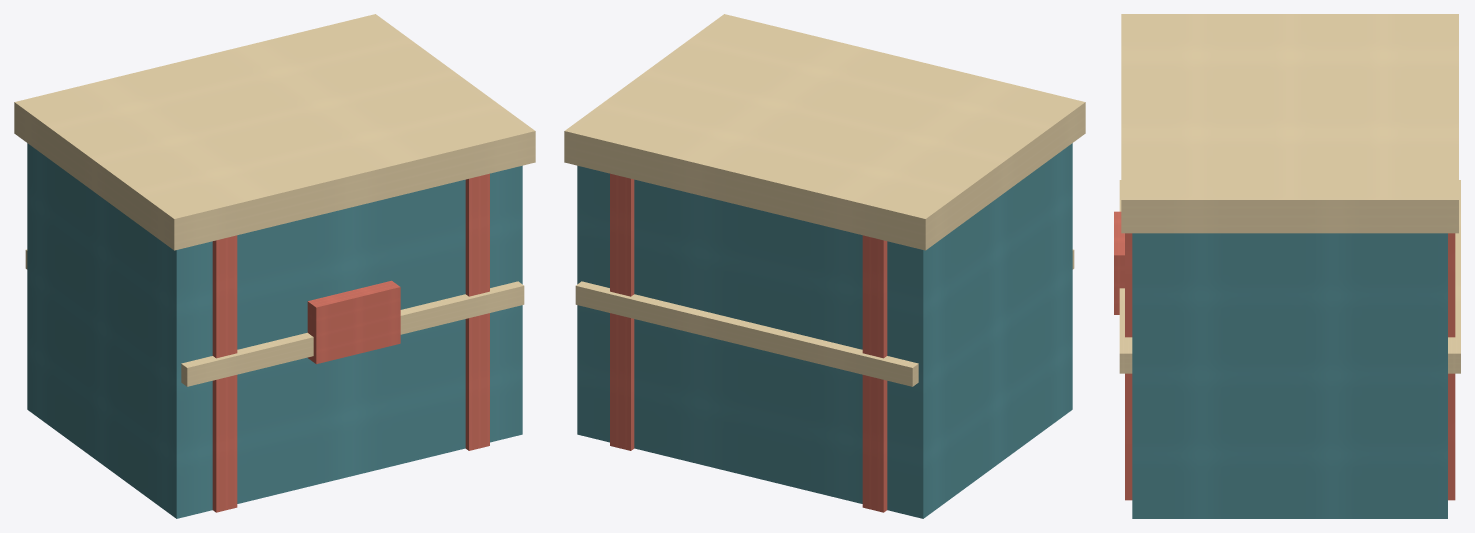
Rendered from atlas100-atompunk-util02.glb.
3 renders of one model, left to right at view 1: azimuth 30°, elevation 25°; view 2: azimuth 150°, elevation 25°; view 3: azimuth 270°, elevation 25°, orthographic. The views are drawn at different scales.
Visible parts, largest first — view 1: atlas100-atompunk-util02:part-000, atlas100-atompunk-util02:part-005, atlas100-atompunk-util02:part-001, atlas100-atompunk-util02:part-004, atlas100-atompunk-util02:part-002, atlas100-atompunk-util02:part-006; view 2: atlas100-atompunk-util02:part-000, atlas100-atompunk-util02:part-005, atlas100-atompunk-util02:part-003, atlas100-atompunk-util02:part-001, atlas100-atompunk-util02:part-002; view 3: atlas100-atompunk-util02:part-000, atlas100-atompunk-util02:part-005, atlas100-atompunk-util02:part-002, atlas100-atompunk-util02:part-003, atlas100-atompunk-util02:part-006, atlas100-atompunk-util02:part-004.
Boxes of the visible parts, <box> form: atlas100-atompunk-util02:part-000: <box>27,143,522,518</box>; atlas100-atompunk-util02:part-005: <box>14,14,535,250</box>; atlas100-atompunk-util02:part-001: <box>212,235,237,512</box>; atlas100-atompunk-util02:part-004: <box>181,281,524,386</box>; atlas100-atompunk-util02:part-002: <box>465,173,489,450</box>; atlas100-atompunk-util02:part-006: <box>307,280,400,364</box>; atlas100-atompunk-util02:part-000: <box>577,143,1072,518</box>; atlas100-atompunk-util02:part-005: <box>564,14,1085,250</box>; atlas100-atompunk-util02:part-003: <box>575,281,918,386</box>; atlas100-atompunk-util02:part-001: <box>862,235,887,512</box>; atlas100-atompunk-util02:part-002: <box>610,173,634,450</box>; atlas100-atompunk-util02:part-000: <box>1132,233,1447,518</box>; atlas100-atompunk-util02:part-005: <box>1121,14,1458,233</box>; atlas100-atompunk-util02:part-002: <box>1125,233,1455,500</box>; atlas100-atompunk-util02:part-003: <box>1448,180,1460,373</box>; atlas100-atompunk-util02:part-006: <box>1114,211,1124,314</box>; atlas100-atompunk-util02:part-004: <box>1119,180,1132,373</box>.
Bounding box in the file's own units: 1.23 × 0.9923 × 0.9667.
Materials: 3 (3 with a texture image).
